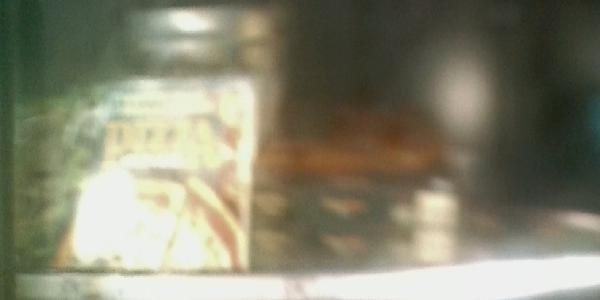pizza1: (18, 80, 252, 271)
pizza2: (248, 170, 456, 232), (249, 231, 455, 267), (126, 8, 284, 38)
